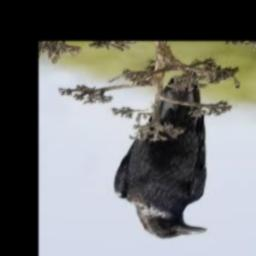Crow: (115, 70, 207, 238)
